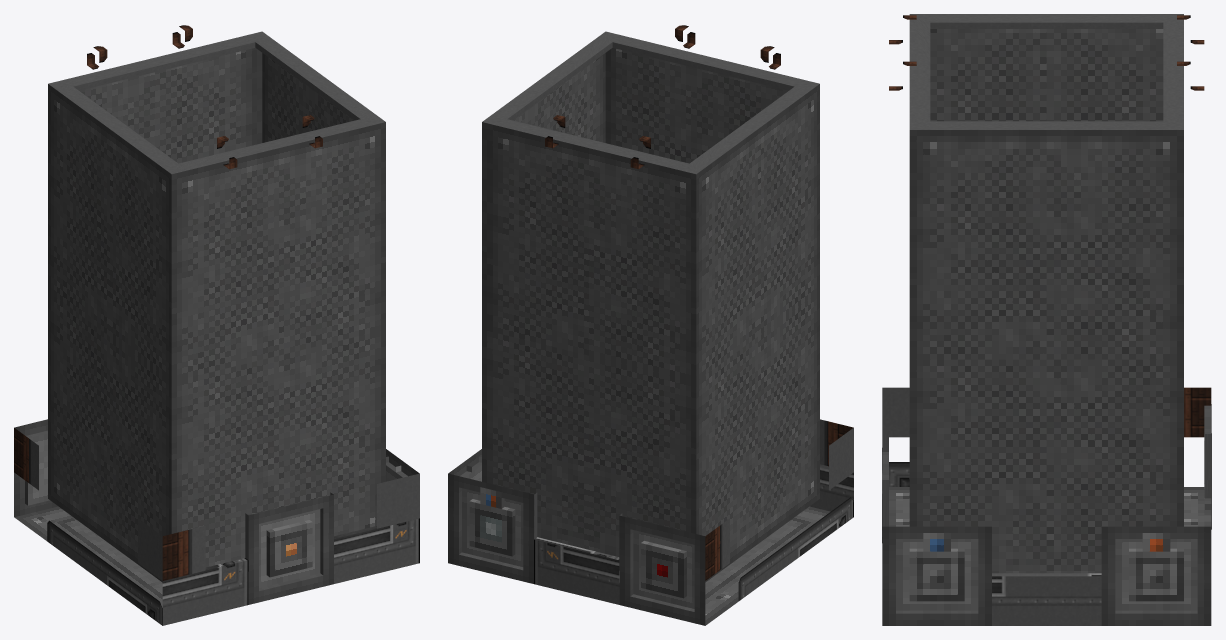
Rendered from emplacement_base.obj.
3 renders of one model, left to right at view 1: azimuth 30°, elevation 25°; view 2: azimuth 150°, elevation 25°; view 3: azimuth 270°, elevation 25°, orthographic. The views are drawn at different scales.
Visible parts, largest first — view 1: main; view 2: main; view 3: main.
Boxes of the visible parts, x1=… form: main: x1=14, y1=25, x2=419, y2=625; main: x1=448, y1=25, x2=853, y2=625; main: x1=882, y1=14, x2=1211, y2=625.
Bounding box in the file's own units: 3 × 5.12 × 3.01.
